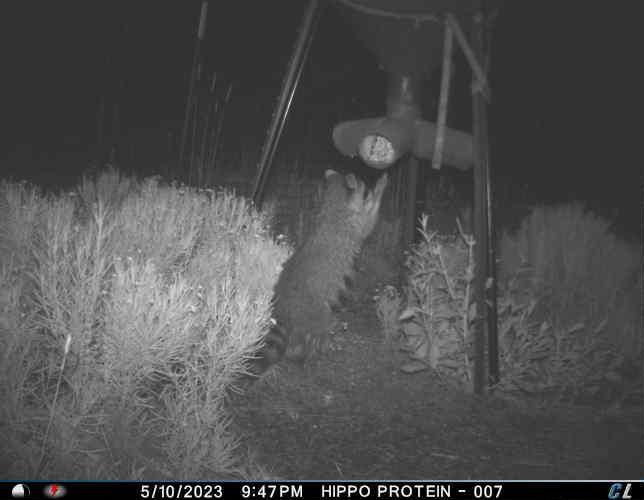Raccoon: (247, 166, 392, 376)
